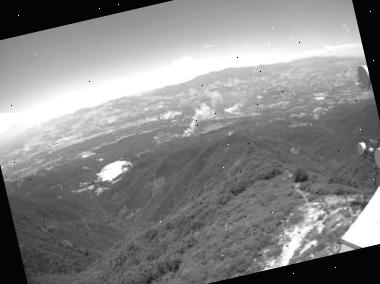smoke: (172, 81, 258, 140)
